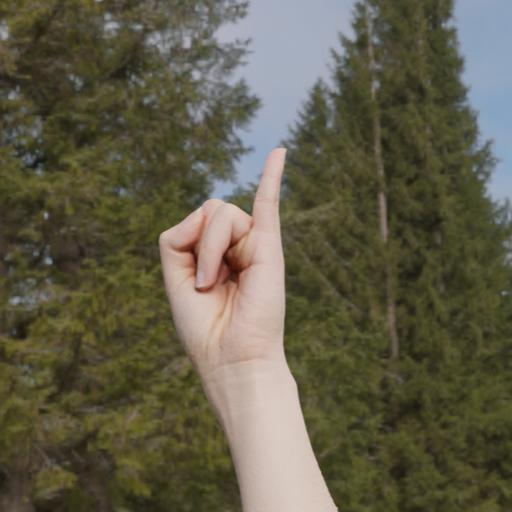I: (153, 139, 297, 385)
